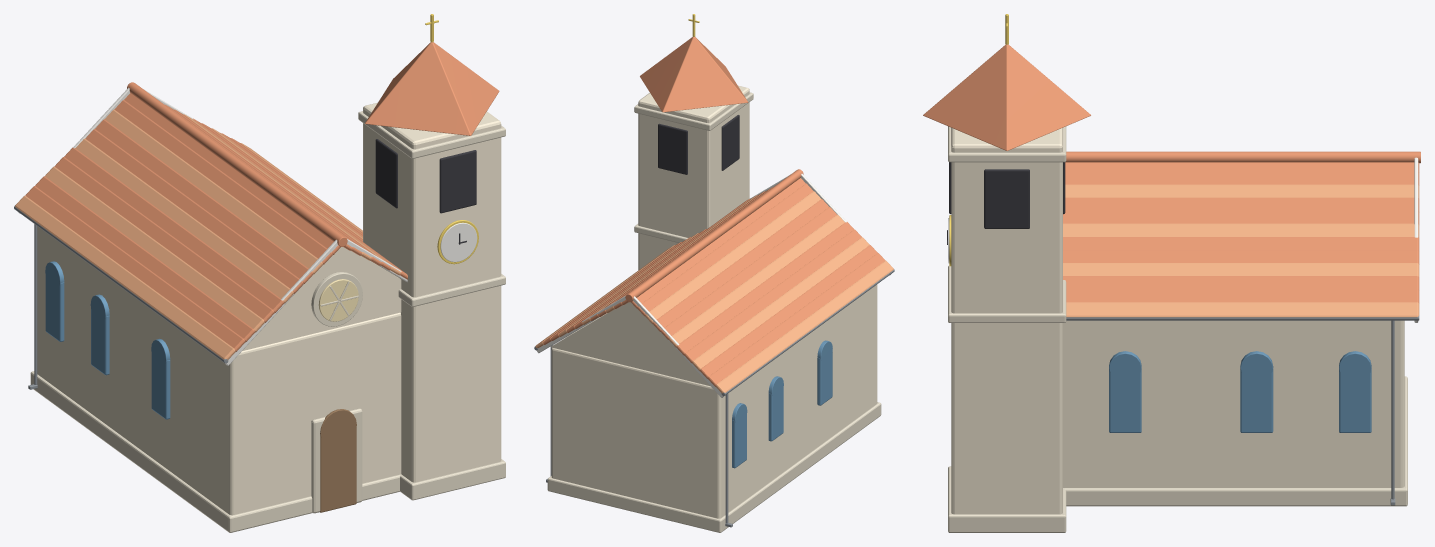
The model's file is church.fbx.
3 renders of one model, left to right at view 1: azimuth 30°, elevation 25°; view 2: azimuth 150°, elevation 25°; view 3: azimuth 270°, elevation 25°, orthographic. The views are drawn at different scales.
Visible parts, largest first — view 1: Visual; view 2: Visual; view 3: Visual.
Part boxes in pixels (bbox=[...]): Visual: bbox=[14, 14, 505, 532]; Visual: bbox=[534, 14, 894, 532]; Visual: bbox=[923, 14, 1420, 532].
Size of what is drawn, in the model's own units: 1128 by 1660 by 1516.
